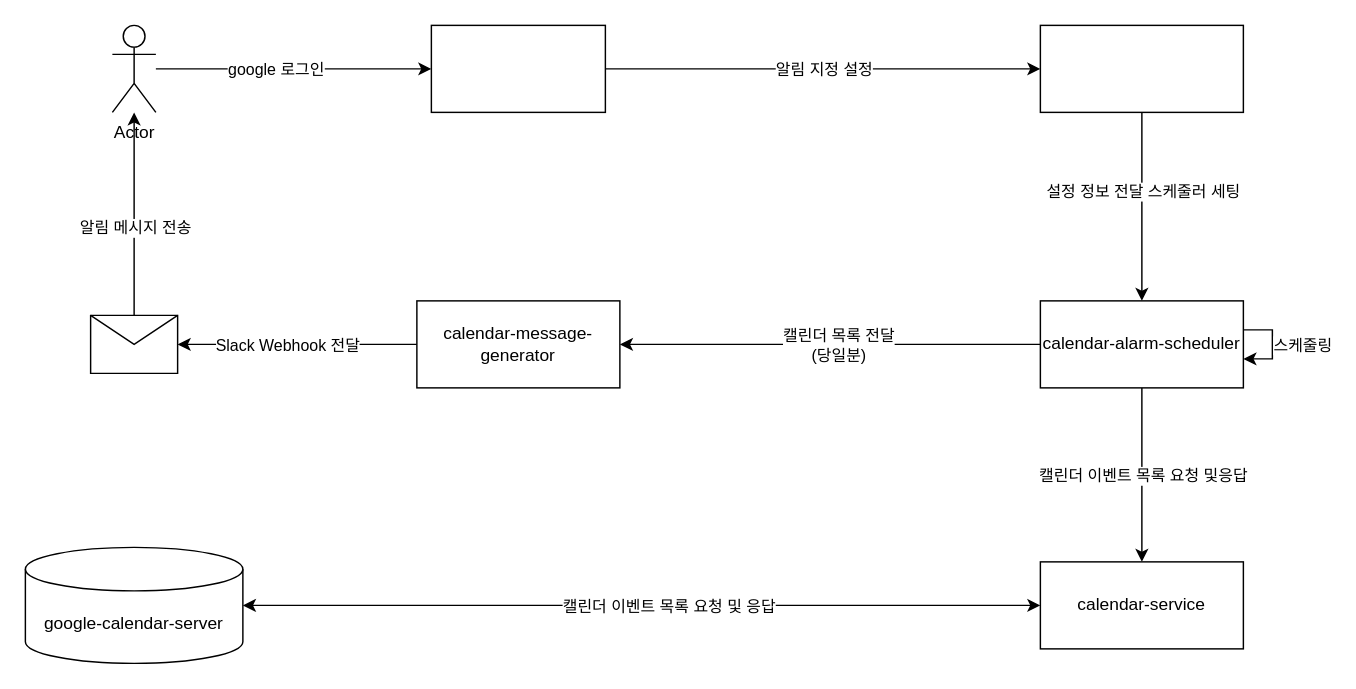
Image size: 1356x689. Some labels were removed from this diagram. Each missing label, with the box of its shape:
calendar-alarm-setting: (1039, 24, 1243, 112)
calendar-oauth2-login: (430, 24, 605, 112)
Slack Bot: (89, 314, 178, 373)
